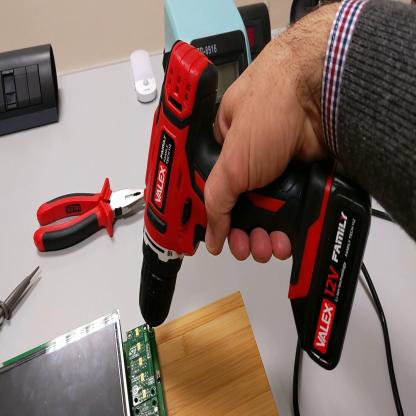electric screwdriver: (138, 41, 372, 372)
hand: (203, 22, 322, 261)
low voltage board: (1, 310, 167, 416)
pliers: (34, 178, 144, 255)
socket: (237, 4, 275, 62), (290, 2, 342, 29)
welder station: (163, 3, 253, 110)
working area: (155, 292, 279, 416)
